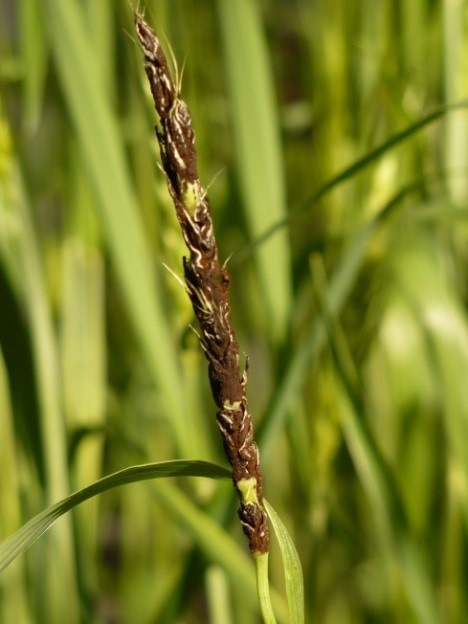Wheat Loose Smut: (122, 17, 276, 521)
